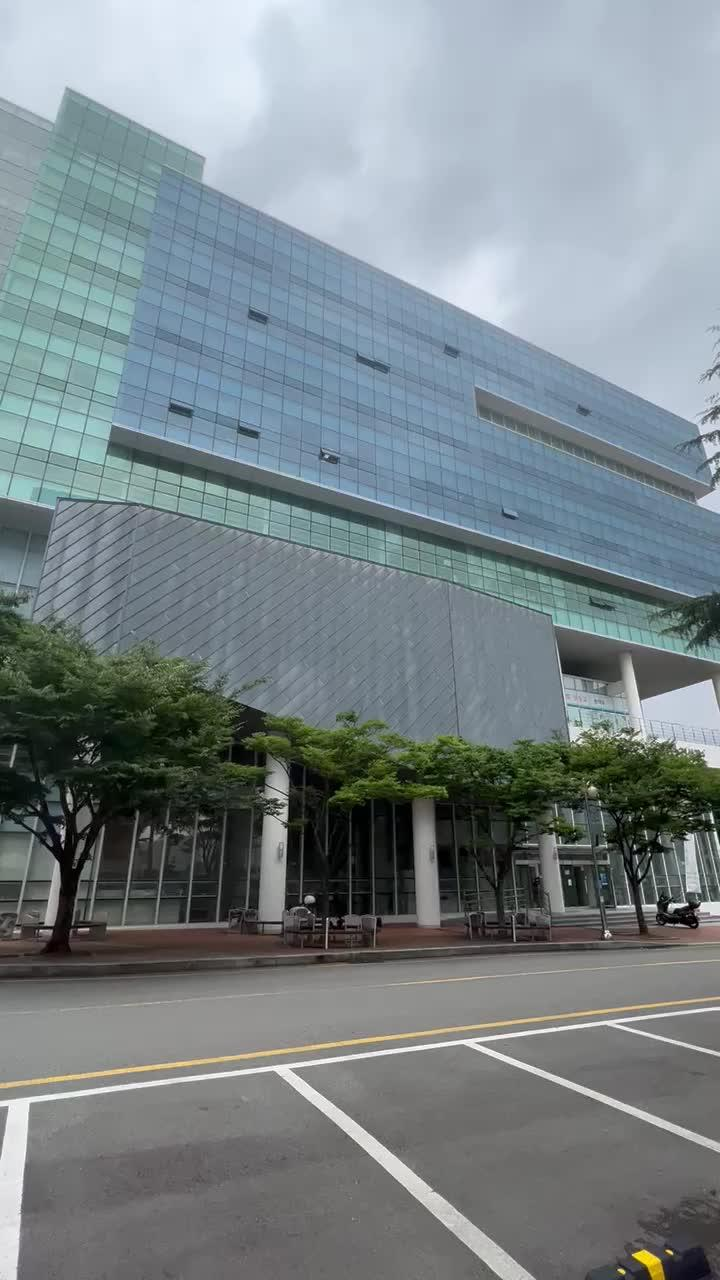building: (62, 164, 672, 746)
